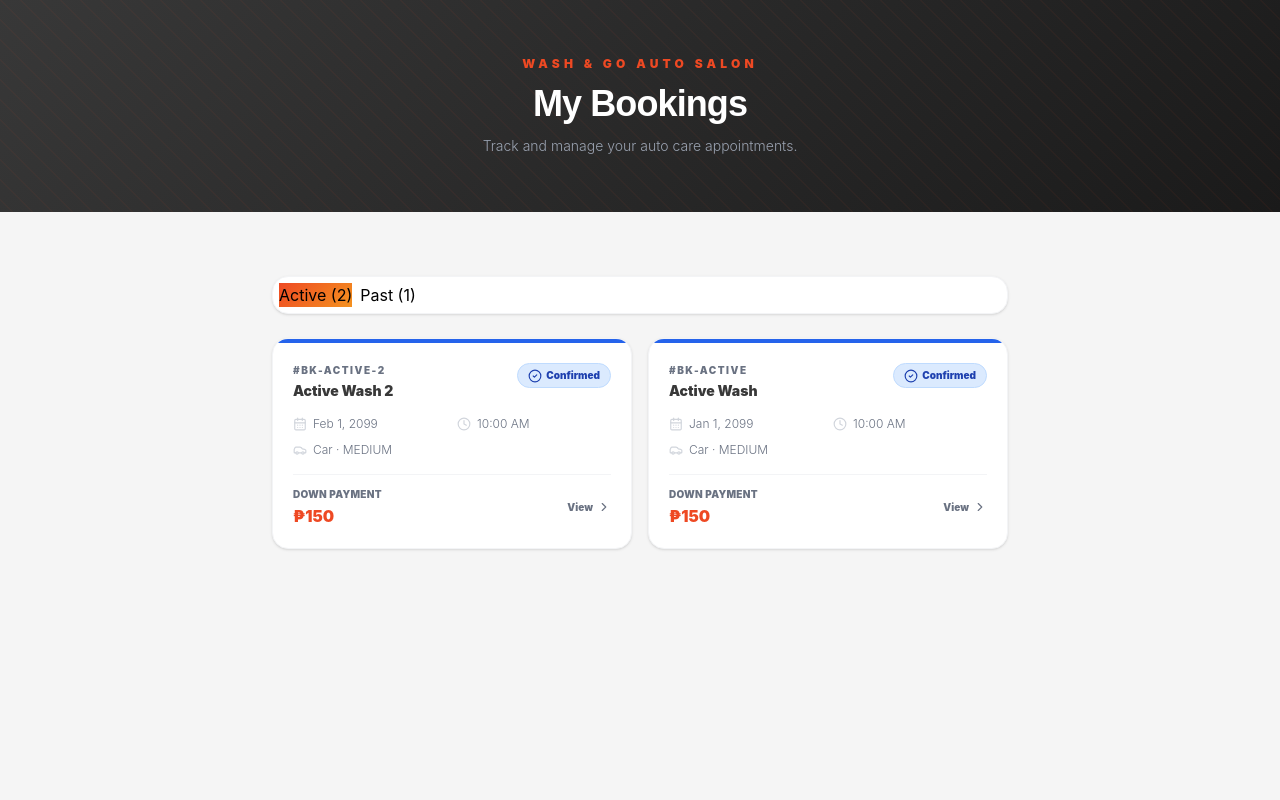
Test case: CheckStatus authenticated bookings tabs › defaults to the Active tab (sorted) and switches to Past on click
expect the heading "Active Wash" is shown: met, box [669,382,758,400]
expect the heading "Active Wash 2" is shown: met, box [293,382,393,400]
Click the button "Past (1)" at (388, 295), box [360,283,416,307]
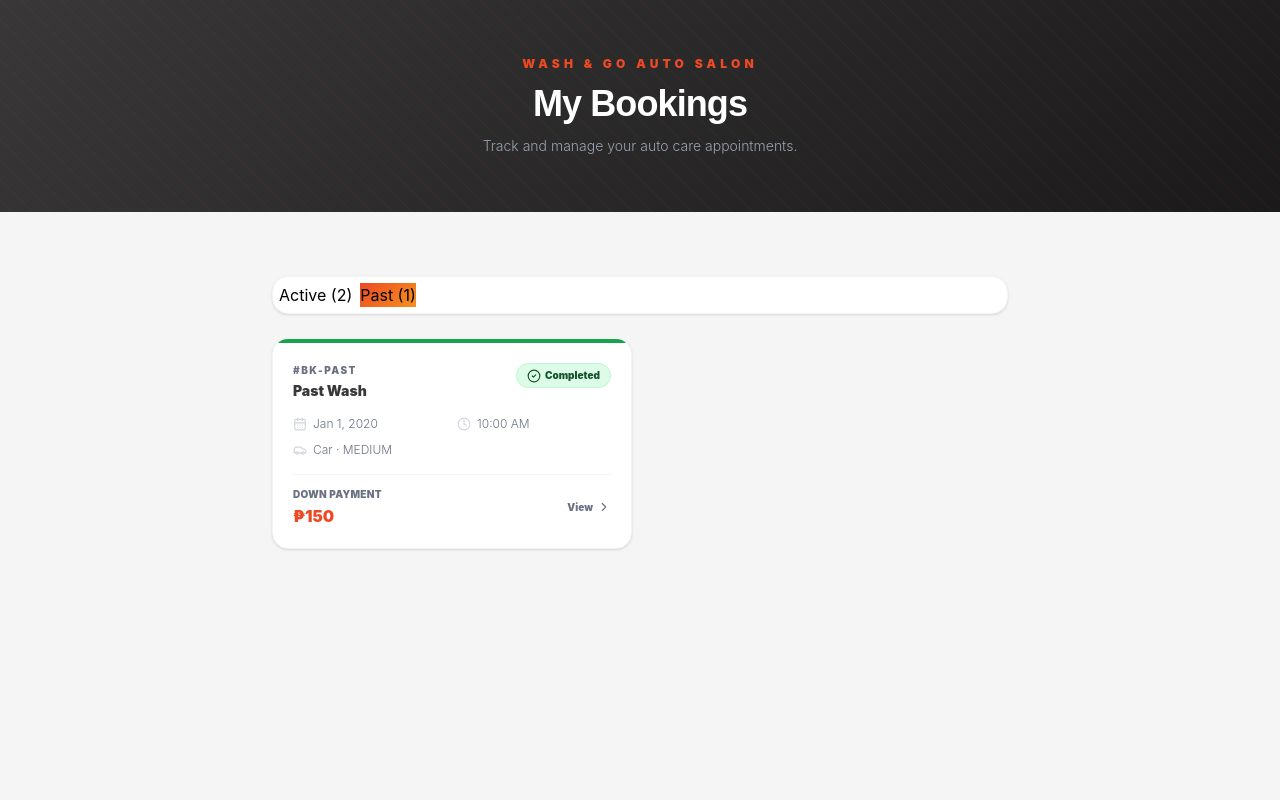
expect the heading "Past Wash" is shown: met, box [293,382,367,400]
expect the heading "Active Wash" is gone: met
